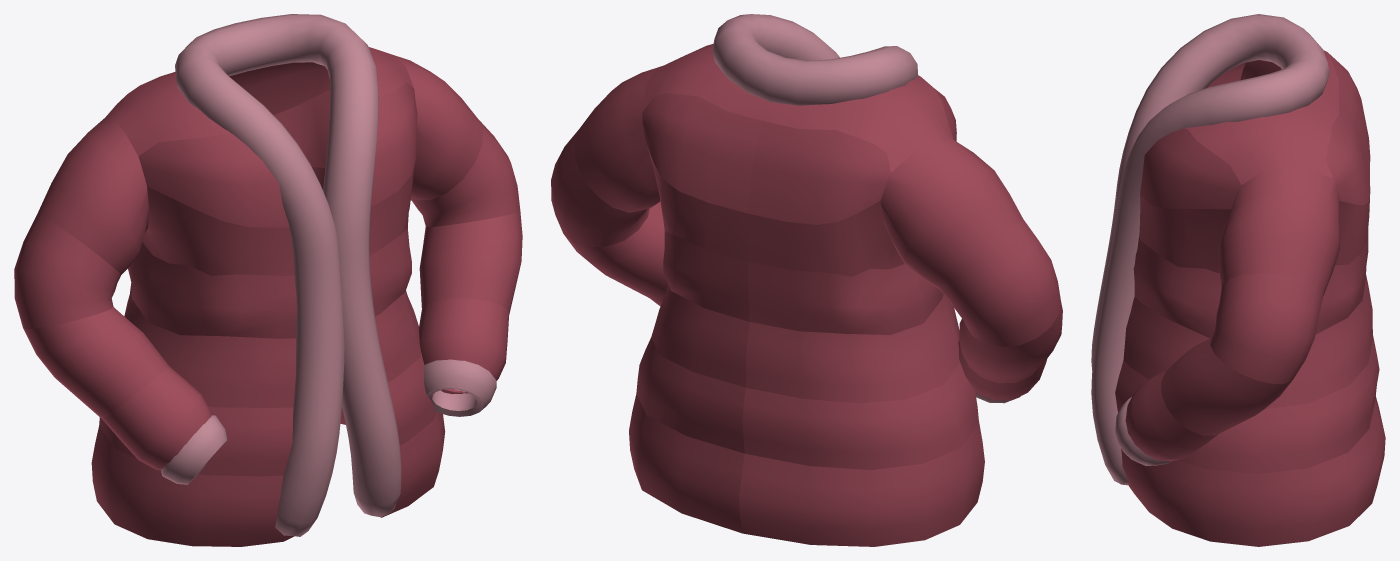
File: jacket_pink.fbx
3 renders of one model, left to right at view 1: azimuth 30°, elevation 25°; view 2: azimuth 150°, elevation 25°; view 3: azimuth 270°, elevation 25°, orthographic. The views are drawn at different scales.
Visible parts, largest first — view 1: jacket_2_pink; view 2: jacket_2_pink; view 3: jacket_2_pink.
Part boxes in pixels (x1=…): jacket_2_pink: x1=14, y1=14, x2=522, y2=546; jacket_2_pink: x1=551, y1=14, x2=1062, y2=546; jacket_2_pink: x1=1091, y1=14, x2=1385, y2=546.
Bounding box in the file's own units: 0.6464 × 0.3527 × 0.5678.
